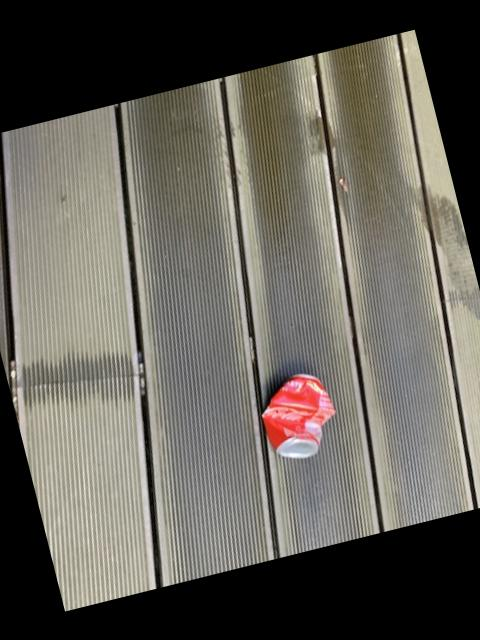metal: (263, 373, 336, 456)
